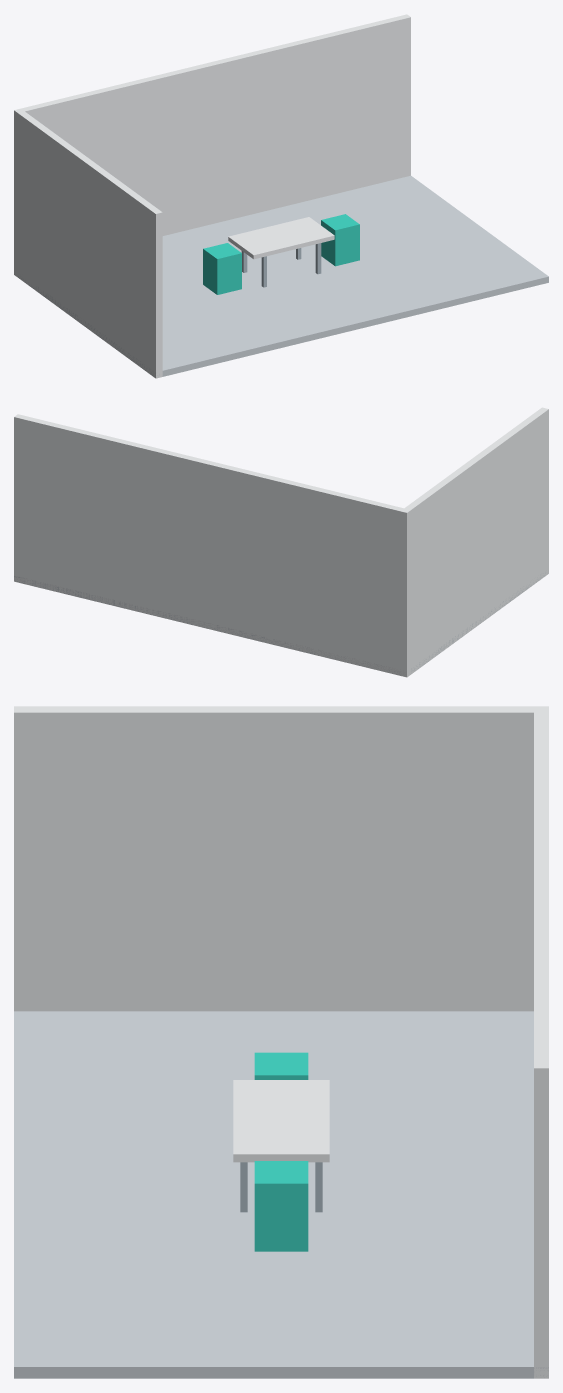
The picture shows the model from 3 angles, top to bottom: view 1: azimuth 30°, elevation 25°; view 2: azimuth 150°, elevation 25°; view 3: azimuth 270°, elevation 25°; orthographic projection. The views are drawn at different scales.
Visible parts, largest first — view 1: Exhibition Booth Concept; view 2: Exhibition Booth Concept; view 3: Exhibition Booth Concept.
Boxes of the visible parts, x1,y1,x2,y2 form: Exhibition Booth Concept: (14, 14, 548, 378); Exhibition Booth Concept: (14, 407, 548, 677); Exhibition Booth Concept: (14, 706, 548, 1378).
Bounding box in the file's own units: 8 × 3.2 × 5.
